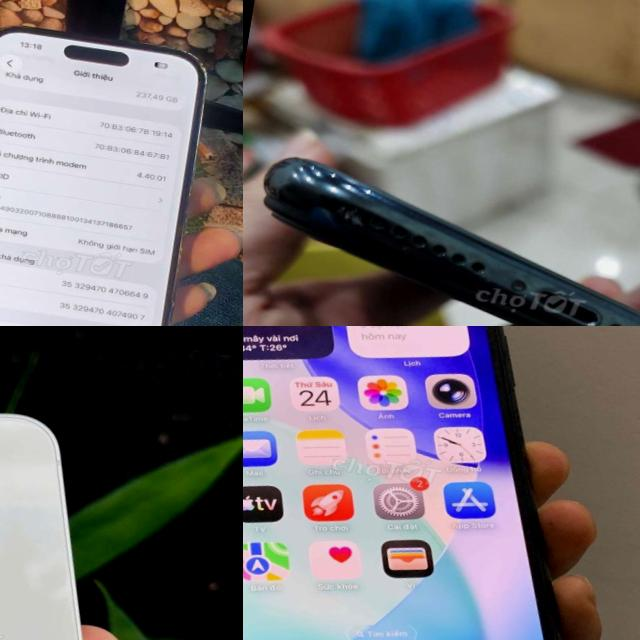gen_11: (243, 326, 640, 640), (243, 133, 640, 326)
gen_12_13: (0, 373, 173, 640)
gen_14: (0, 8, 222, 326)
physical_damage: (303, 182, 400, 244), (145, 277, 187, 326)
scratch: (177, 42, 227, 82)
